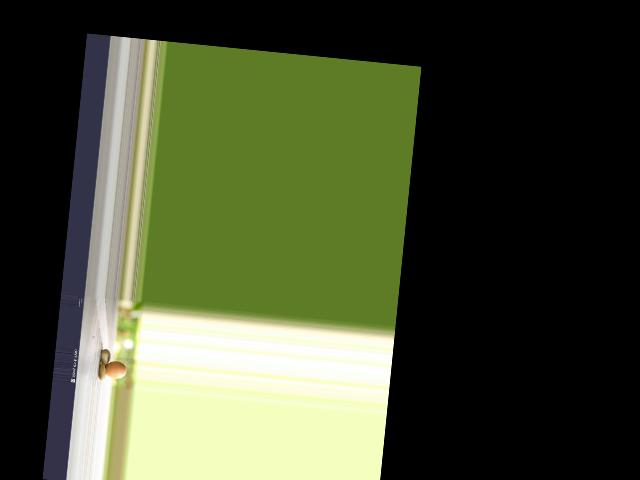egg: (104, 359, 126, 379)
